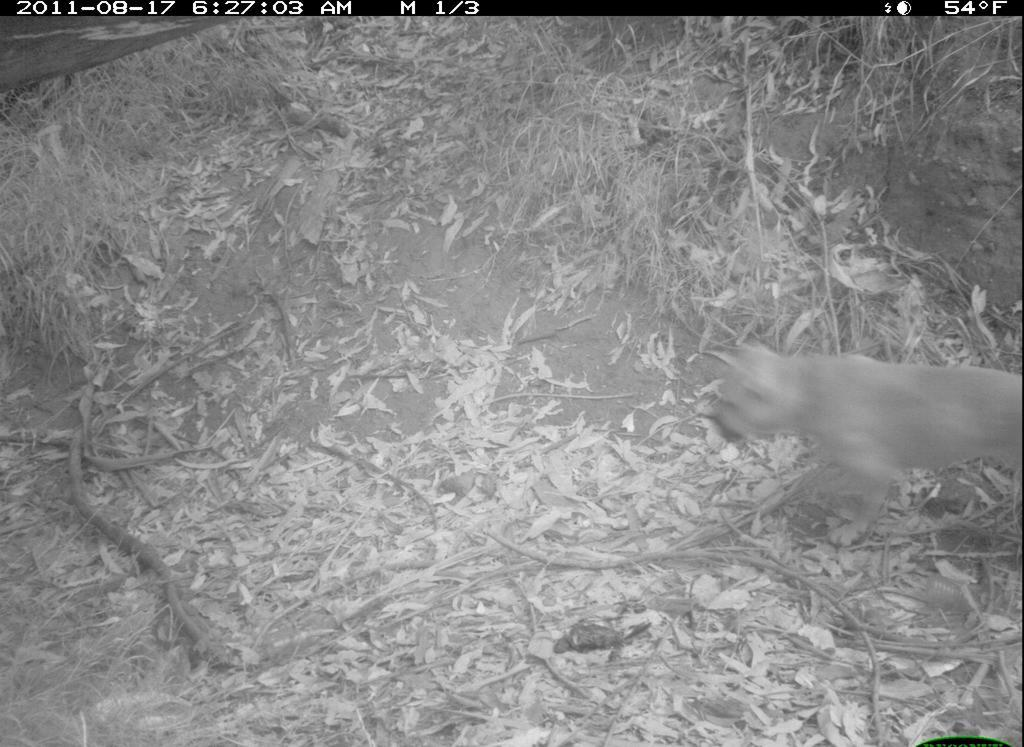dog: (681, 309, 1018, 551)
